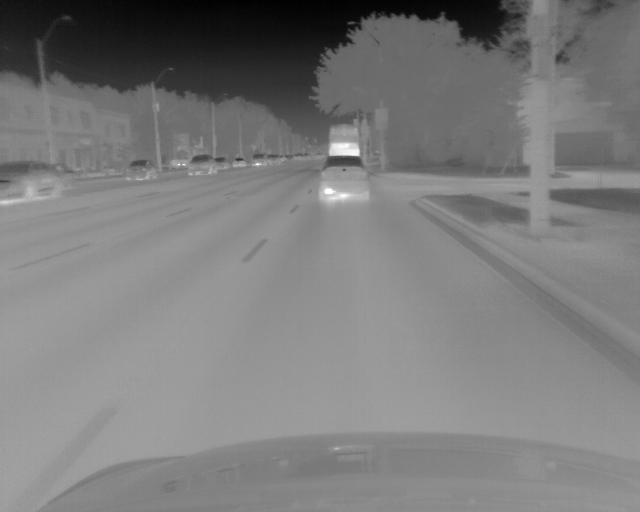car: (1, 161, 66, 204), (319, 156, 370, 202), (328, 123, 359, 158), (123, 160, 158, 182), (187, 154, 216, 177), (251, 153, 266, 166), (215, 157, 228, 171), (231, 156, 245, 166), (266, 154, 280, 164), (283, 154, 293, 162), (294, 153, 302, 160)
